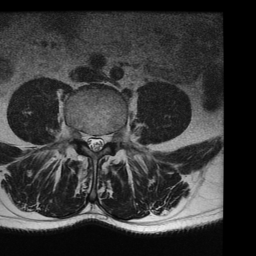CCS_normal: (92, 127, 99, 156)
LFS_normal: (106, 123, 114, 148)
LLS_normal: (99, 125, 106, 155)
RFS_normal: (77, 123, 85, 147)
RLS_normal: (85, 124, 92, 154)
